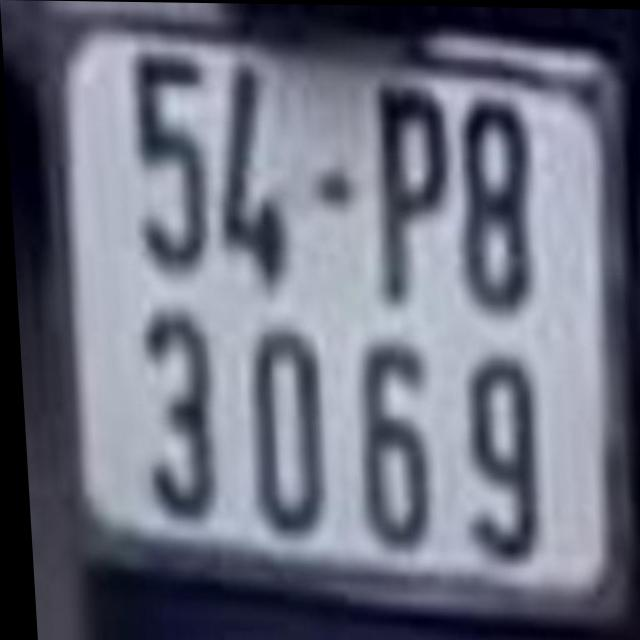0: (240, 325, 322, 531)
3: (137, 307, 217, 515)
4: (218, 64, 289, 296)
5: (128, 52, 210, 265)
6: (350, 334, 430, 553)
8: (459, 95, 531, 315)
9: (459, 352, 537, 558)
P: (372, 87, 451, 309)
